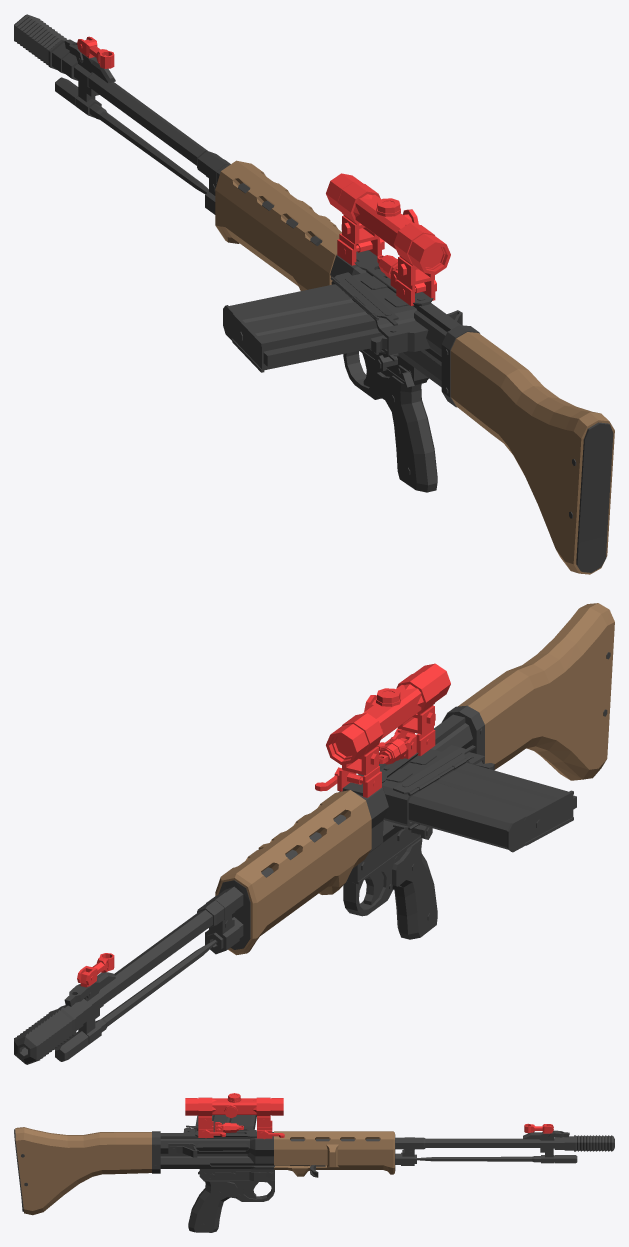
File: fusil_1.glb
The picture shows the model from 3 angles, top to bottom: view 1: azimuth 30°, elevation 25°; view 2: azimuth 150°, elevation 25°; view 3: azimuth 270°, elevation 25°; orthographic projection. The views are drawn at different scales.
Visible parts, largest first — view 1: p111_accent, p31_accent, p55_paint, p113_paint, p75_paint, p7_paint, p56_paint, p12_paint, p53_del, p54_paint, p88_del, p41_paint (+6 smaller); view 2: p111_accent, p31_accent, p55_paint, p7_paint, p75_paint, p54_paint, p56_paint, p12_paint, p53_del, p37_del, p39_paint, p41_paint (+8 smaller); view 3: p111_accent, p31_accent, p7_paint, p75_paint, p41_paint, p51_paint, p12_paint, p53_del, p42_paint, p39_paint, p55_paint, p38_paint (+15 smaller).
Boxes of the visible parts, box(x1,y1,x2,y2) form: p111_accent: box(450, 332, 614, 574); p31_accent: box(215, 160, 341, 290); p55_paint: box(229, 284, 383, 370); p113_paint: box(576, 422, 613, 572); p75_paint: box(375, 370, 437, 492); p7_paint: box(74, 64, 322, 245); p56_paint: box(331, 272, 430, 355); p12_paint: box(89, 103, 208, 194); p53_del: box(355, 194, 414, 249); p54_paint: box(223, 305, 264, 372); p88_del: box(394, 225, 450, 274); p41_paint: box(330, 255, 447, 355); p111_accent: box(458, 603, 614, 780); p31_accent: box(215, 790, 371, 955); p55_paint: box(408, 763, 576, 849); p7_paint: box(87, 814, 345, 1013); p75_paint: box(392, 838, 437, 939); p54_paint: box(507, 790, 573, 852); p56_paint: box(382, 745, 484, 826); p12_paint: box(95, 939, 217, 1032); p53_del: box(362, 685, 421, 739); p37_del: box(326, 715, 382, 764); p39_paint: box(347, 829, 420, 884); p41_paint: box(339, 723, 472, 828); p111_accent: box(15, 1127, 151, 1215); p31_accent: box(274, 1131, 394, 1176); p7_paint: box(290, 1137, 554, 1149); p75_paint: box(188, 1181, 237, 1232); p41_paint: box(160, 1132, 273, 1156); p51_paint: box(160, 1158, 253, 1168); p12_paint: box(417, 1156, 554, 1162); p53_del: box(212, 1098, 256, 1114); p42_paint: box(209, 1171, 273, 1181); p39_paint: box(199, 1169, 274, 1181); p55_paint: box(195, 1115, 256, 1150); p38_paint: box(230, 1181, 274, 1201).
Size of the model in its own units: 0.2052 by 0.2409 by 0.975.
